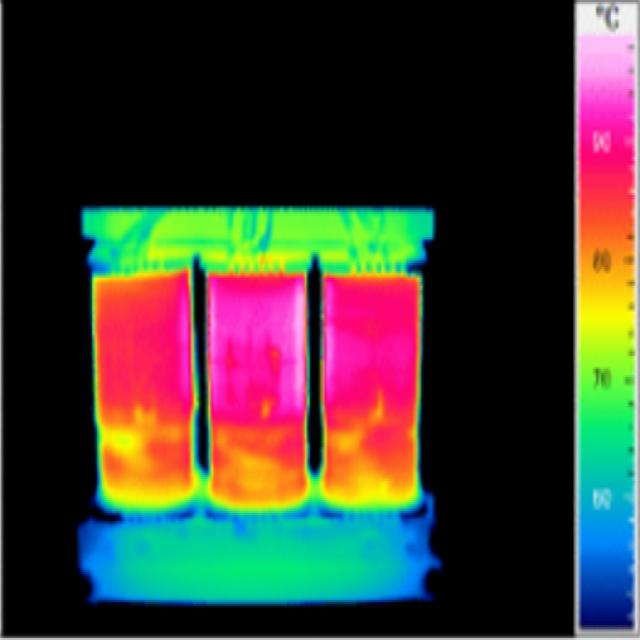Transformer: (78, 212, 438, 602)
